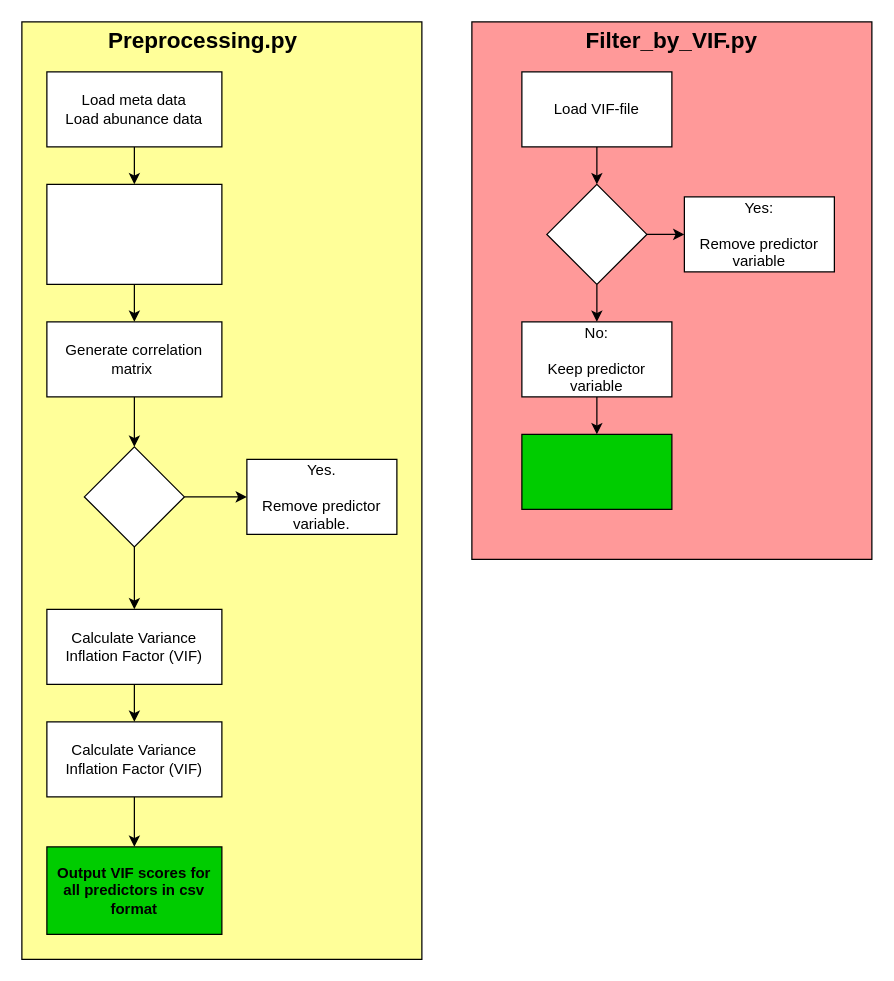
Image size: 894x981. Some labels were removed from this diagram. The centre of each missing label's shape, as x and y in pixels:
corr > 0.6: the point at 133,496
Import coordinates (longitude, latitude) from metadata. Merge on uuid: the point at 134,233
Output the filtered predictor variables data: the point at 596,471
VIF > 5: the point at 596,233
